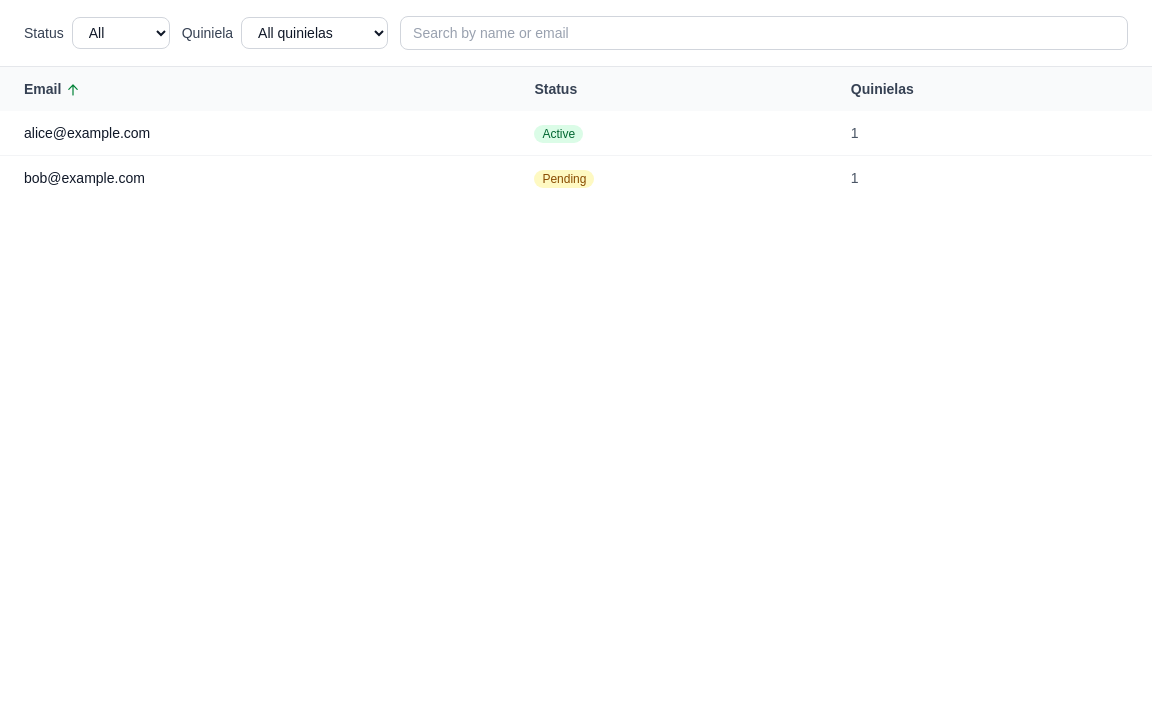
it: UsersClient › shows Approve button for pending memberships in detail panel
// Open pending user's panel
Click the text "bob@example.com". click: (84, 178)
box: [0,156,510,200]
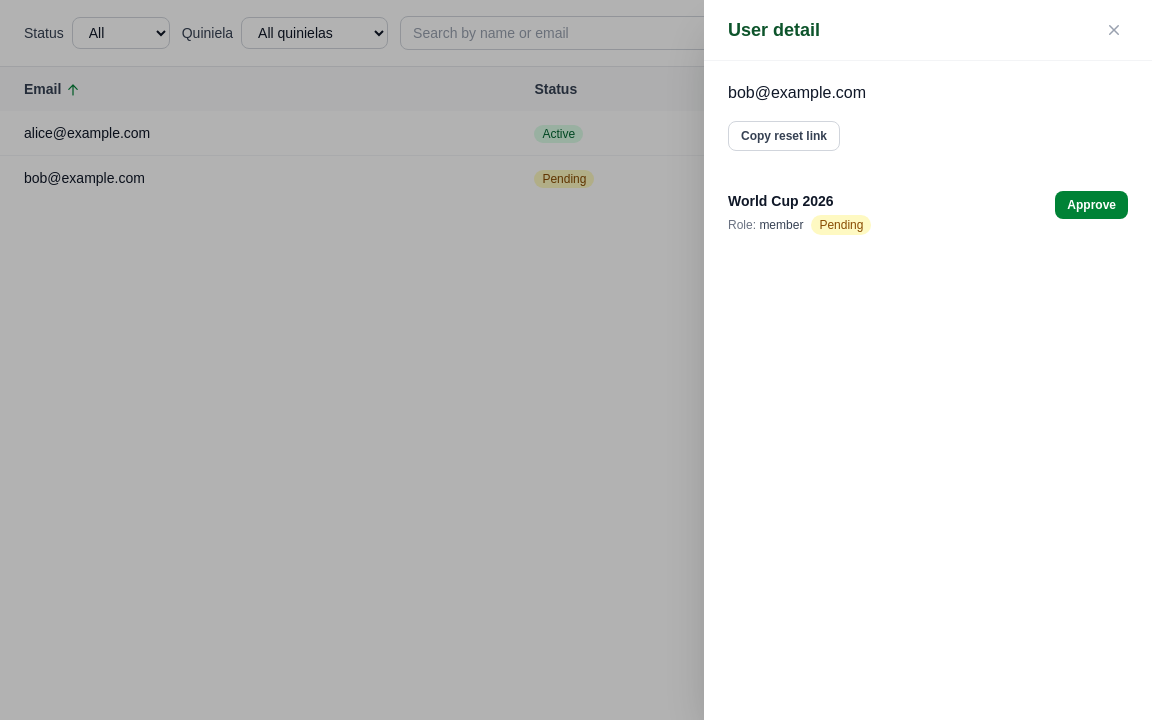
Expected: the button "Approve" is shown, [1055,191,1128,219]
